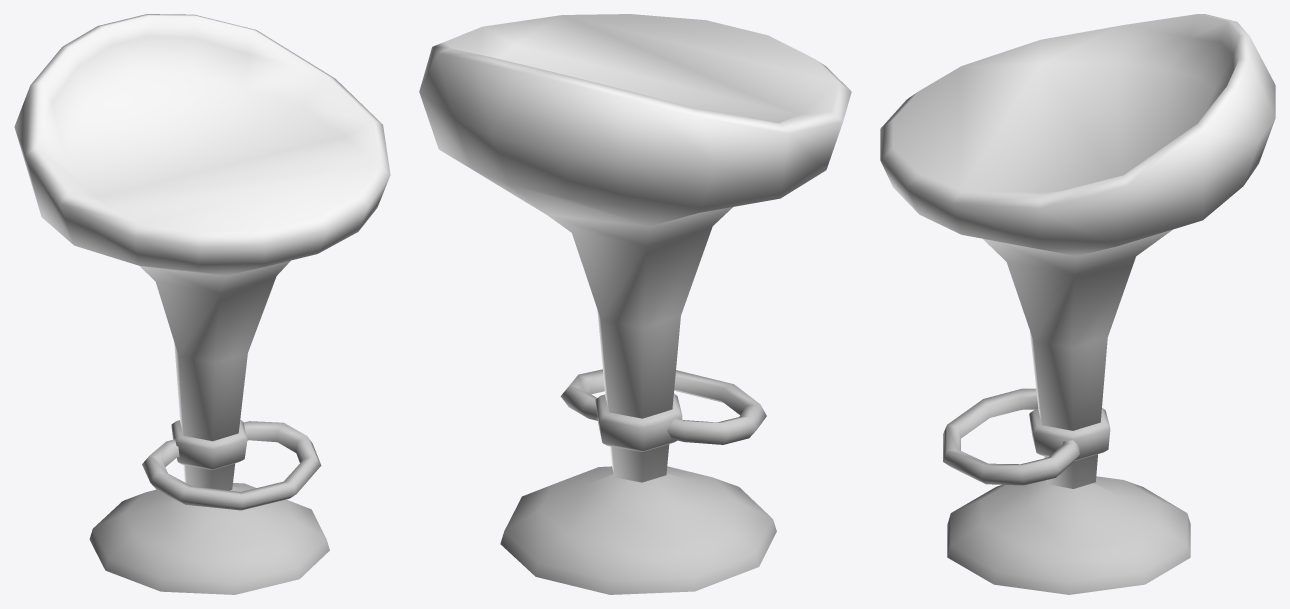
The model's file is chair_008.fbx.
3 views of the same model, side by side, from view 1: azimuth 30°, elevation 25°; view 2: azimuth 150°, elevation 25°; view 3: azimuth 270°, elevation 25° (orthographic). The views are drawn at different scales.
Parts seen in each view (by area): view 1: chair_008; view 2: chair_008; view 3: chair_008.
Boxes of the visible parts, x1,y1,x2,y2 form: chair_008: [14, 14, 390, 594]; chair_008: [419, 14, 851, 594]; chair_008: [880, 14, 1275, 594].
Size of the model in its own units: 73.11 by 73.02 by 101.
